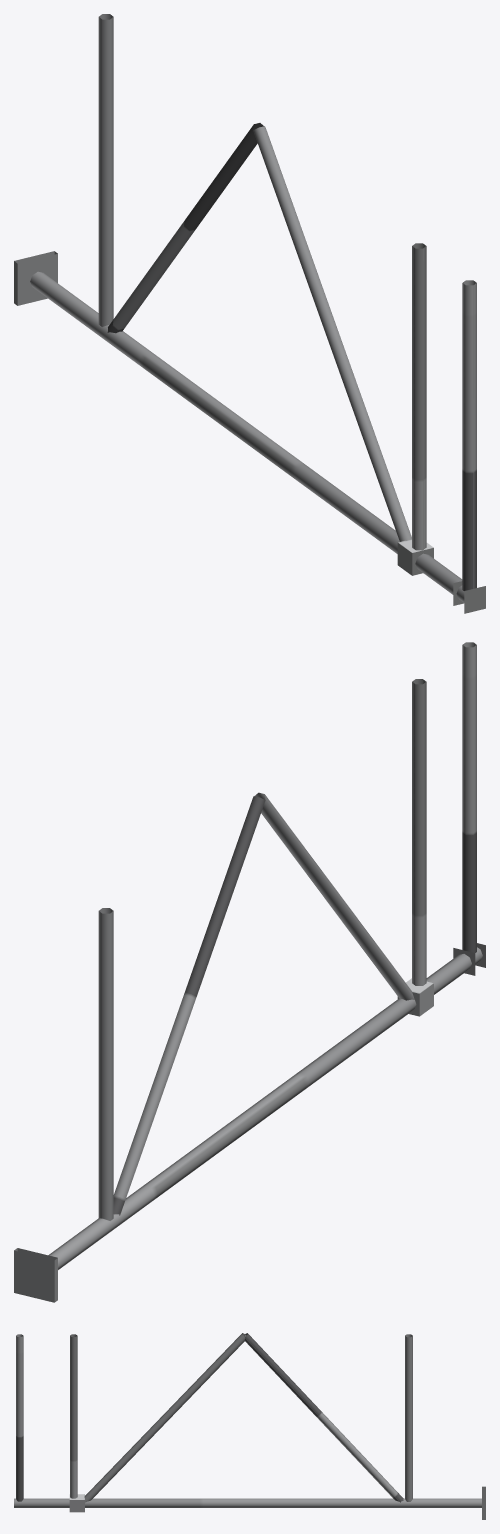
3 views of the same model, one above another, from view 1: azimuth 30°, elevation 25°; view 2: azimuth 150°, elevation 25°; view 3: azimuth 270°, elevation 25° (orthographic). The views are drawn at different scales.
Bounding box in the file's own units: 0.13 × 1.04 × 2.45.
